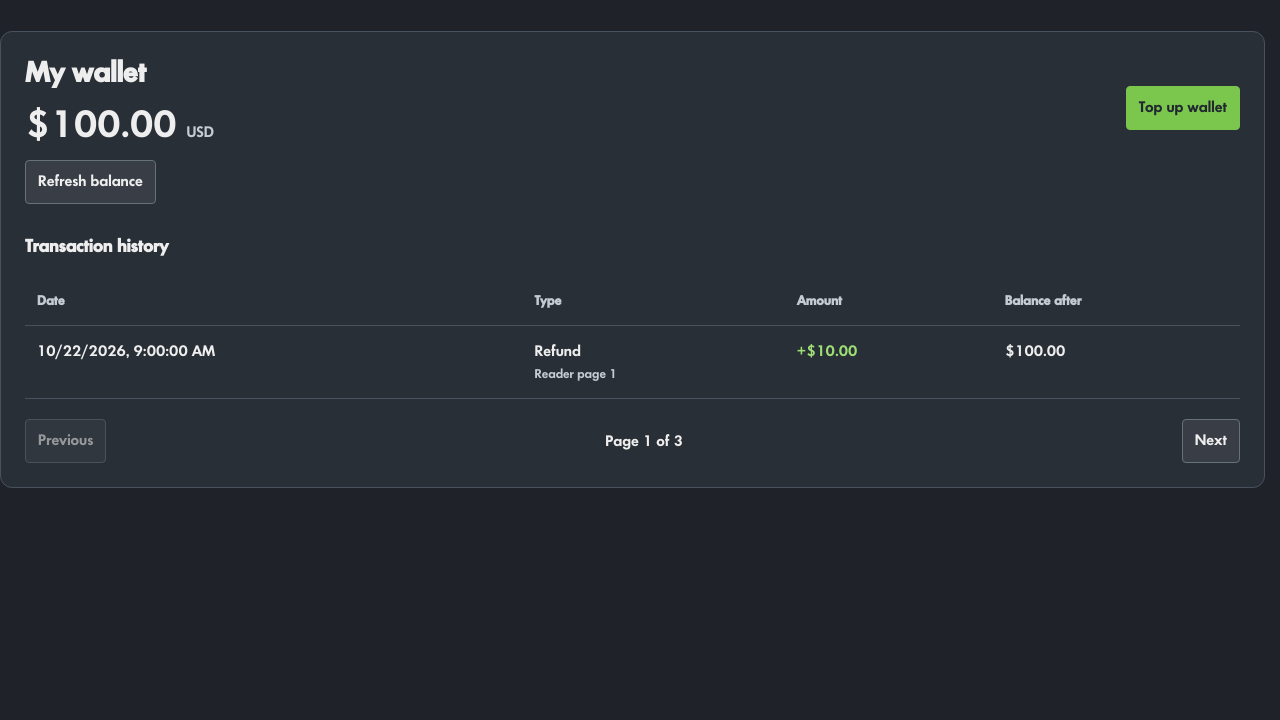
wallet transaction history (#74) › retains the visible page during loading and failure, then retries the requested page
Expected: the text "Reader page 1" is shown, [534, 367, 617, 381]
What coordinates should you click on to do the following:
click the button "Next"
I would click on:
 (1211, 441)
Its box is [1182, 419, 1240, 463].
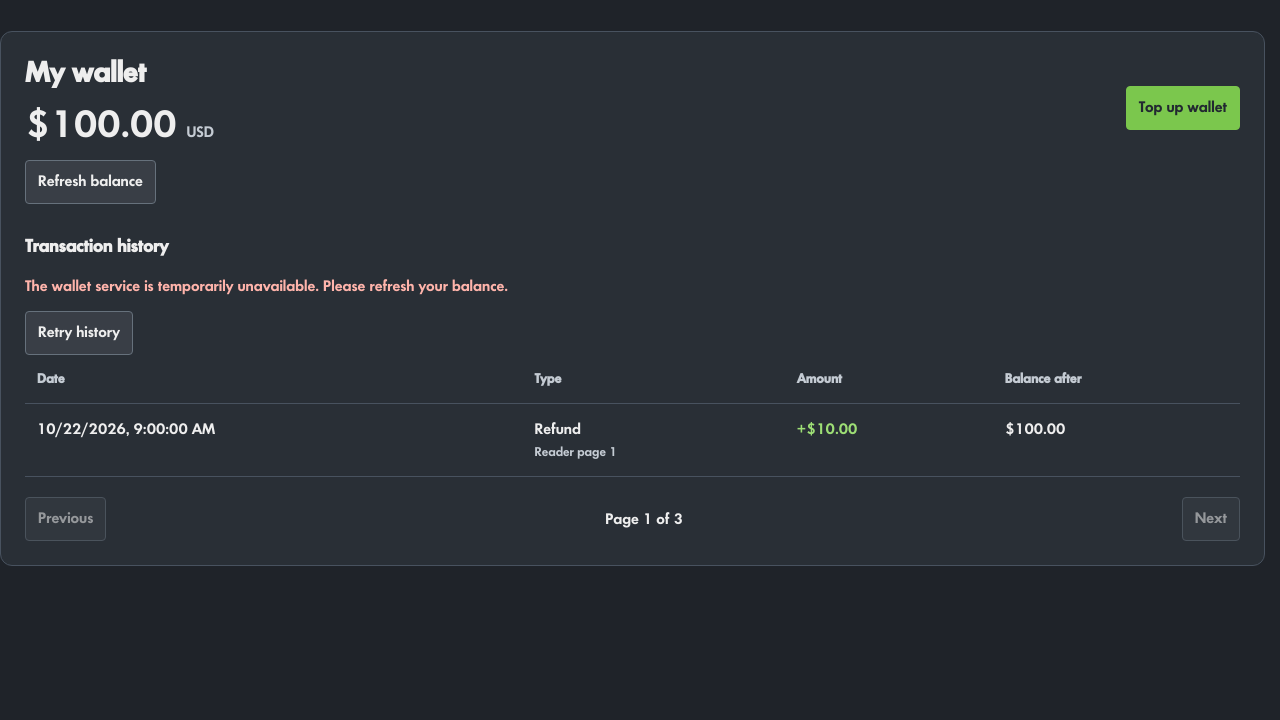
Expected: the text "Page 1 of 3" is shown, [605, 510, 683, 528]
Now the button "Next" is disabled, box [1182, 497, 1240, 541]
Now the message shows "wallet service is temporarily unavailable", box [25, 278, 508, 294]
What coordinates should you click on to do the following:
click the button "Retry history"
I would click on:
 (79, 333)
Its box is [25, 311, 133, 355].
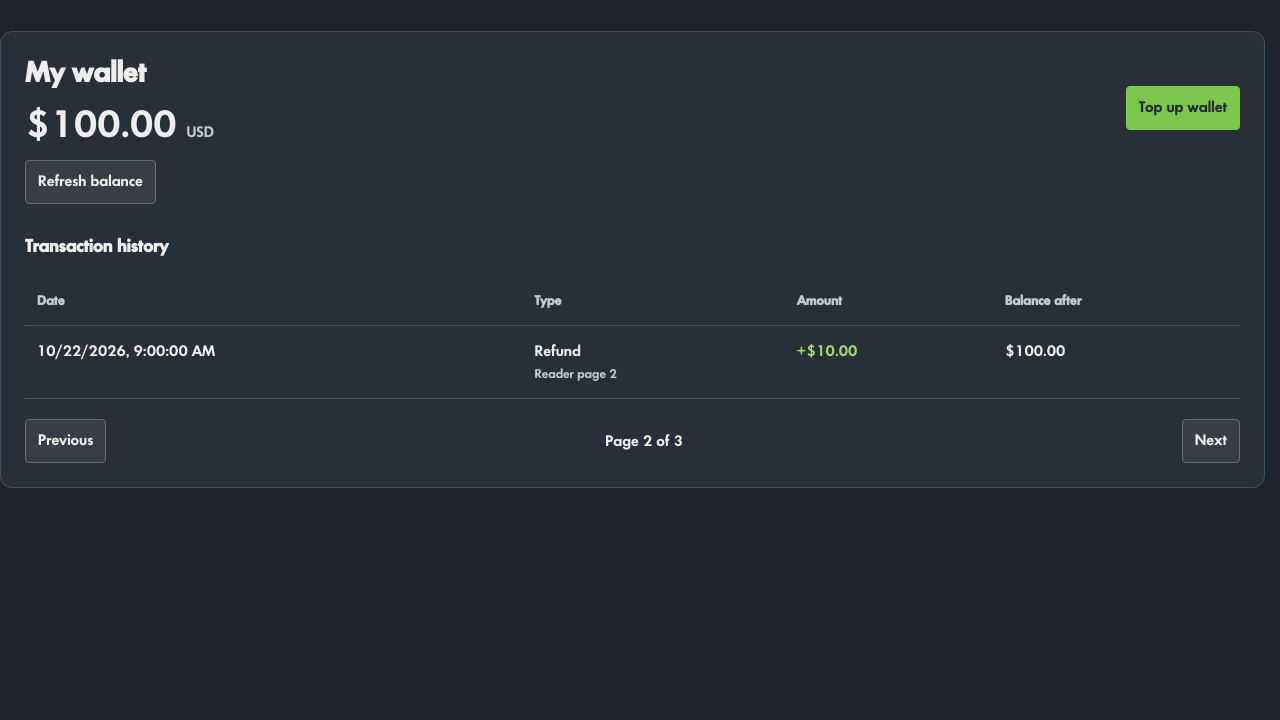
Now the text "Reader page 2" is shown, box [534, 367, 617, 381]
Now the text "Page 2 of 3" is shown, box [605, 432, 683, 450]
Now the text "Reader page 1" is gone
